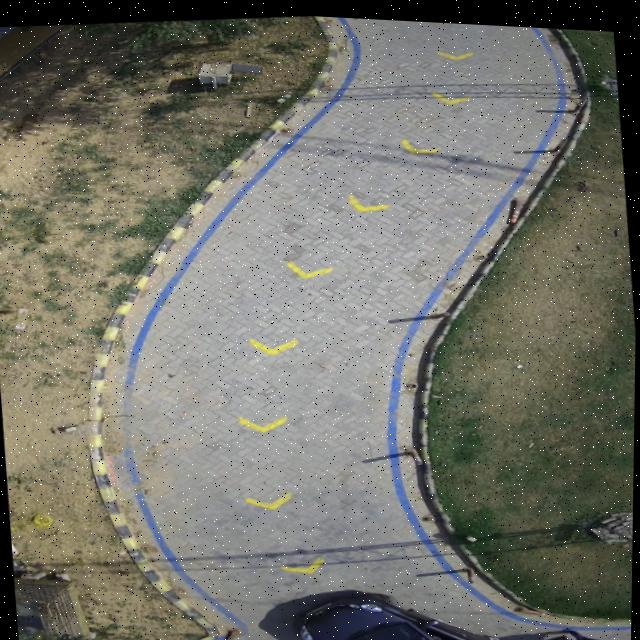car: (298, 588, 509, 640)
